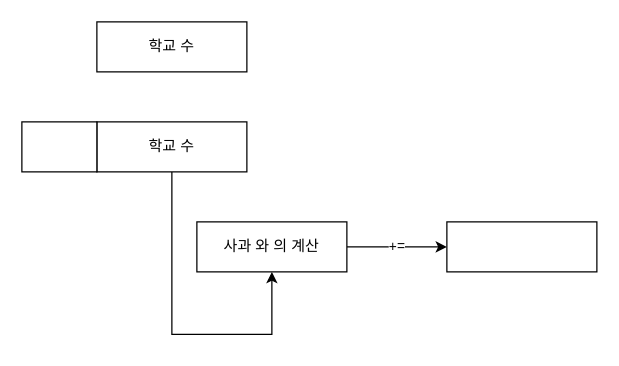
Some shapes in this 619 by 366 pixel diagram are drawn without their labels. The shapes that lost their labels are listed below. From the top down, each one's centre as x and y in pixels, then its label:
point 59,146: for
point 521,246: 나머지
